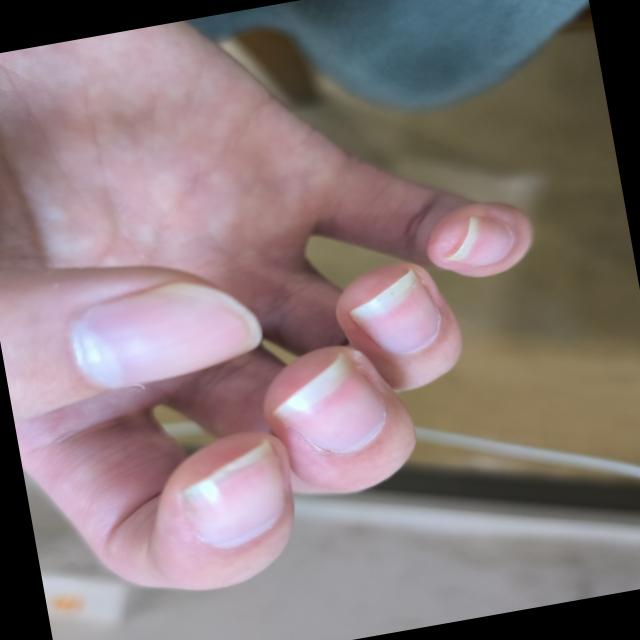Nail: (74, 282, 260, 388), (179, 437, 284, 545), (273, 354, 384, 452), (347, 268, 441, 352), (440, 216, 513, 263)
